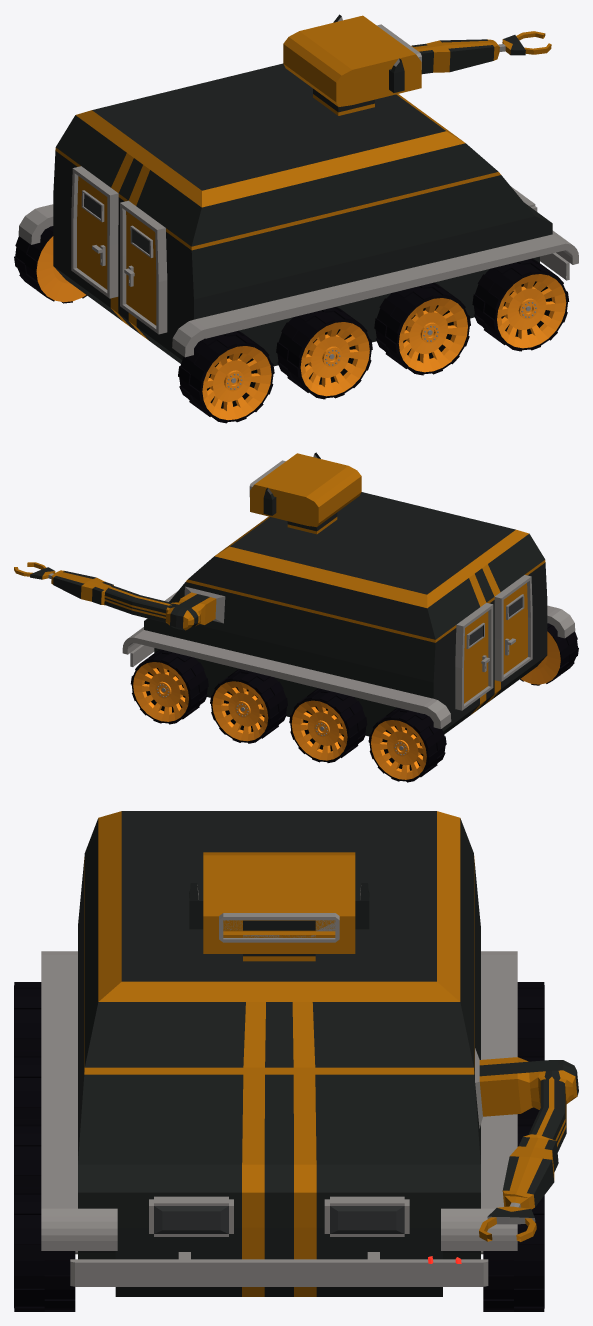
The model's file is ugv.glb.
3 views of the same model, one above another, from view 1: azimuth 30°, elevation 25°; view 2: azimuth 150°, elevation 25°; view 3: azimuth 270°, elevation 25° (orthographic). The views are drawn at different scales.
Parts seen in each view (by area): view 1: Object_4; view 2: Object_4; view 3: Object_4.
Part boxes in pixels (x1,y1,x2,y2): Object_4: (14,14,578,423); Object_4: (14,452,578,782); Object_4: (14,811,578,1311).
Bounding box in the file's own units: 141831 × 67372 × 91884.
Materials: 3 (3 with a texture image).
